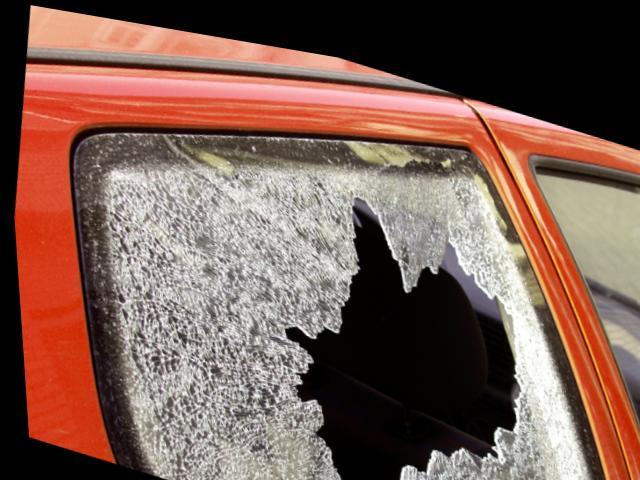glass shatter: (71, 128, 606, 480)
